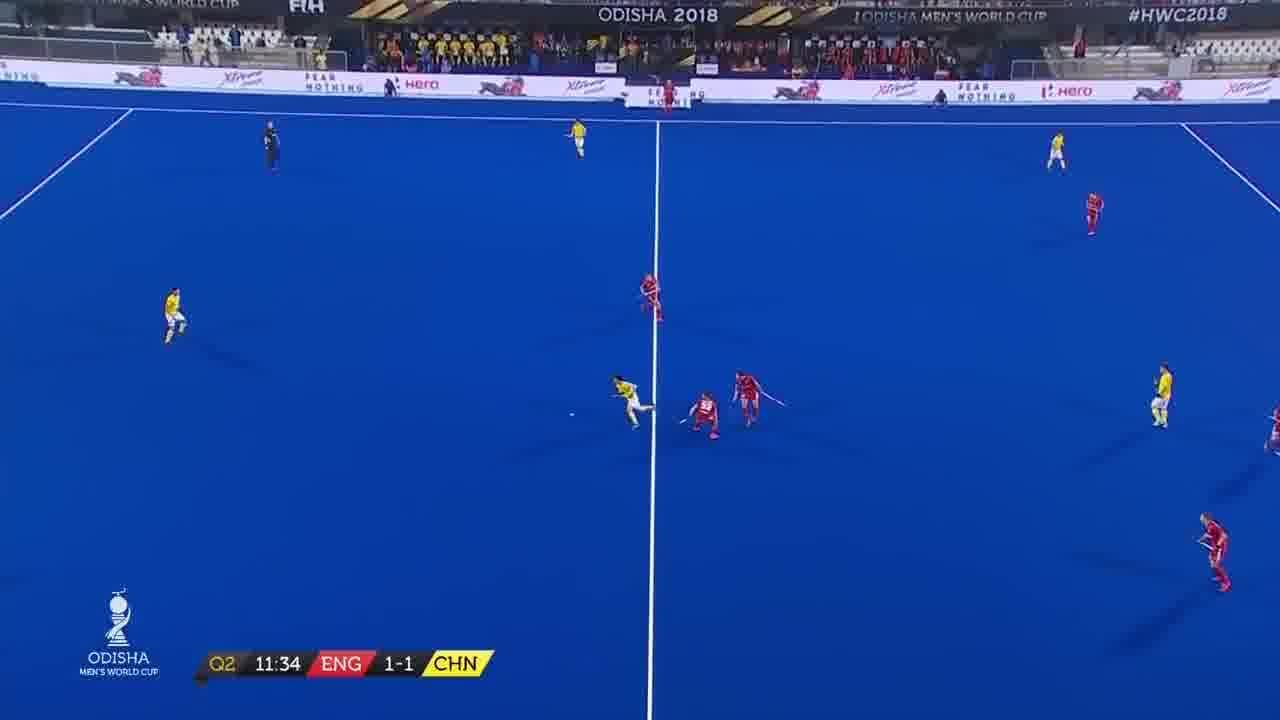ball: (569, 410, 577, 420)
